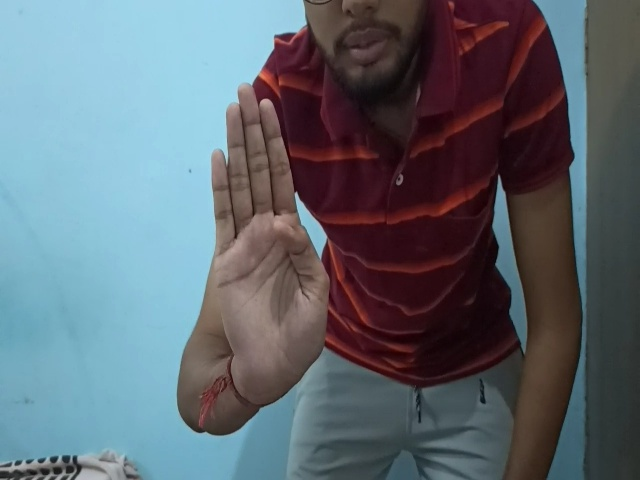B: (210, 83, 329, 388)
